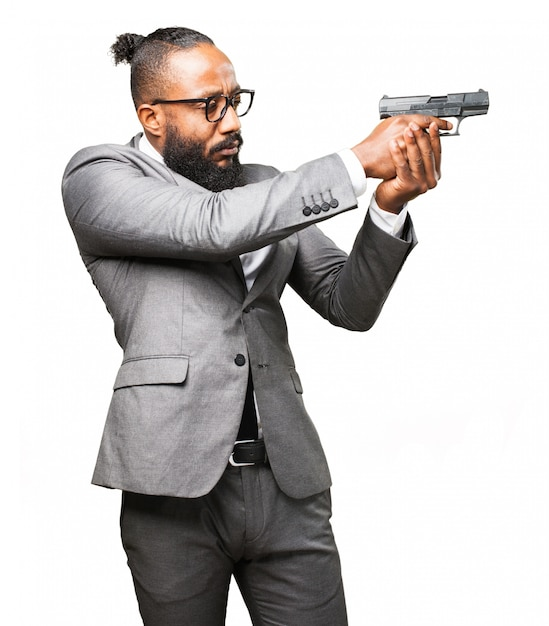gun: (379, 83, 491, 137)
